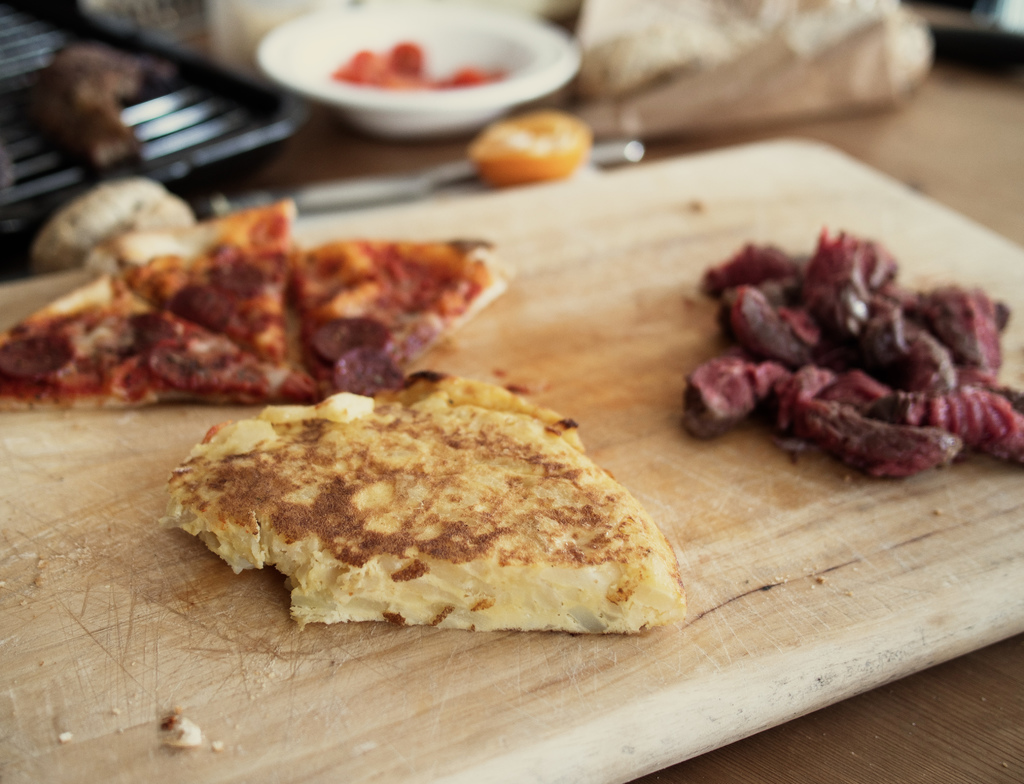Pizza: (168, 362, 694, 648), (30, 208, 544, 433)
